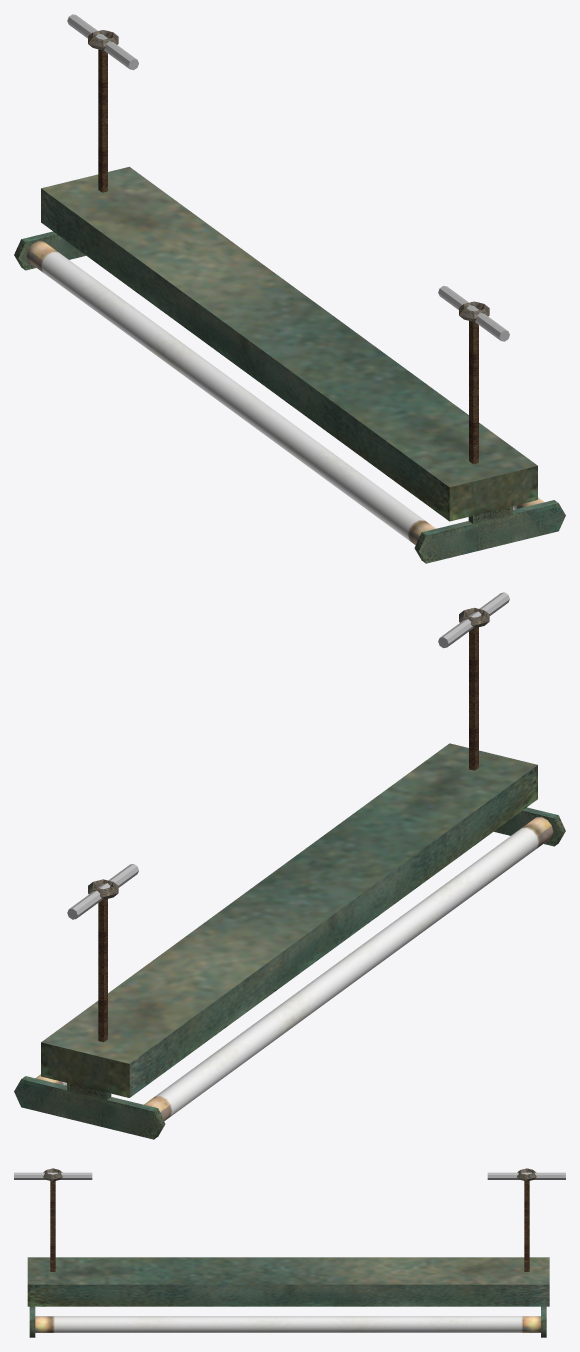
Rendered from light_flourlight01_off.dae.
3 renders of one model, top to bottom at view 1: azimuth 30°, elevation 25°; view 2: azimuth 150°, elevation 25°; view 3: azimuth 270°, elevation 25°, orthographic. The views are drawn at different scales.
Visible parts, largest first — view 1: light1, _joint_ball_light1_mounts_60_60_nocollide_joint2, _joint_ball_light1_mounts_60_60_nocollide_joint1, mounts; view 2: light1, _joint_ball_light1_mounts_60_60_nocollide_joint1, _joint_ball_light1_mounts_60_60_nocollide_joint2, mounts; view 3: light1, _joint_ball_light1_mounts_60_60_nocollide_joint2, _joint_ball_light1_mounts_60_60_nocollide_joint1, mounts.
Boxes of the visible parts, x1,y1,x2,y2 form: light1: (14, 49, 565, 563); _joint_ball_light1_mounts_60_60_nocollide_joint2: (67, 14, 138, 70); _joint_ball_light1_mounts_60_60_nocollide_joint1: (438, 286, 509, 341); mounts: (88, 30, 489, 321); light1: (14, 627, 565, 1139); _joint_ball_light1_mounts_60_60_nocollide_joint1: (438, 592, 509, 648); _joint_ball_light1_mounts_60_60_nocollide_joint2: (67, 864, 138, 919); mounts: (88, 607, 489, 899); light1: (27, 1181, 549, 1337); _joint_ball_light1_mounts_60_60_nocollide_joint2: (487, 1172, 565, 1179); _joint_ball_light1_mounts_60_60_nocollide_joint1: (14, 1172, 92, 1179); mounts: (43, 1168, 536, 1181).
Size of what is drawn, in the model's own units: 0.1808 by 0.2674 by 0.9198.
